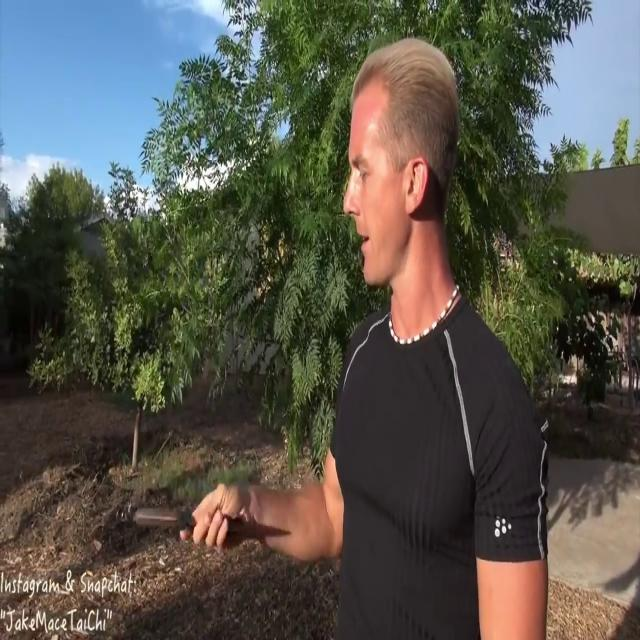knife: (114, 492, 267, 552)
